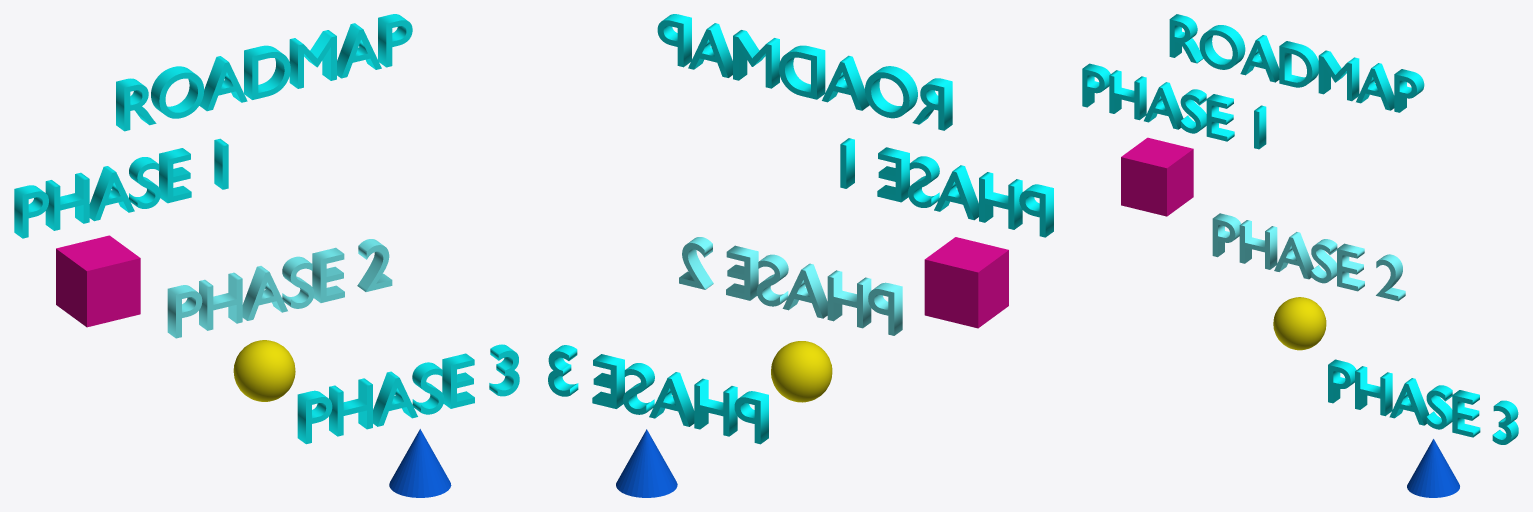
File: roadmap-2.0.glb
3 renders of one model, left to right at view 1: azimuth 30°, elevation 25°; view 2: azimuth 150°, elevation 25°; view 3: azimuth 330°, elevation 25°, orthographic. The views are drawn at different scales.
Visible parts, largest first — view 1: Text, Text.002, Text.003, Text.001, Cube.001, Sphere, Cone; view 2: Text, Text.002, Text.003, Text.001, Cube.001, Sphere, Cone; view 3: Text, Text.003, Text.002, Text.001, Cube.001, Sphere, Cone.
Boxes of the visible parts, <box> form: Text: <box>116,14,412,131</box>; Text.002: <box>167,239,392,338</box>; Text.003: <box>297,344,519,444</box>; Text.001: <box>14,138,228,238</box>; Cube.001: <box>56,235,140,327</box>; Sphere: <box>233,340,295,401</box>; Cone: <box>389,429,451,497</box>; Text: <box>657,14,952,130</box>; Text.002: <box>679,237,902,335</box>; Text.003: <box>548,345,768,444</box>; Text.001: <box>840,138,1053,237</box>; Cube.001: <box>924,237,1008,328</box>; Sphere: <box>771,341,832,402</box>; Cone: <box>616,429,677,497</box>; Text: <box>1169,14,1424,112</box>; Text.003: <box>1328,359,1518,444</box>; Text.002: <box>1212,213,1405,301</box>; Text.001: <box>1082,63,1266,149</box>; Cube.001: <box>1121,137,1193,216</box>; Sphere: <box>1273,297,1326,350</box>; Cone: <box>1407,439,1459,497</box>.
Bounding box in the file's own units: 11.11 × 10.13 × 1.2.
